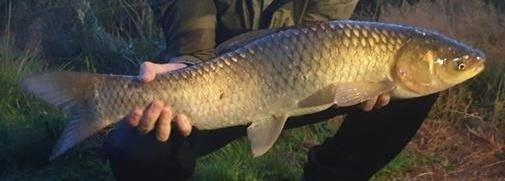Grass Carp: (22, 19, 489, 159)
